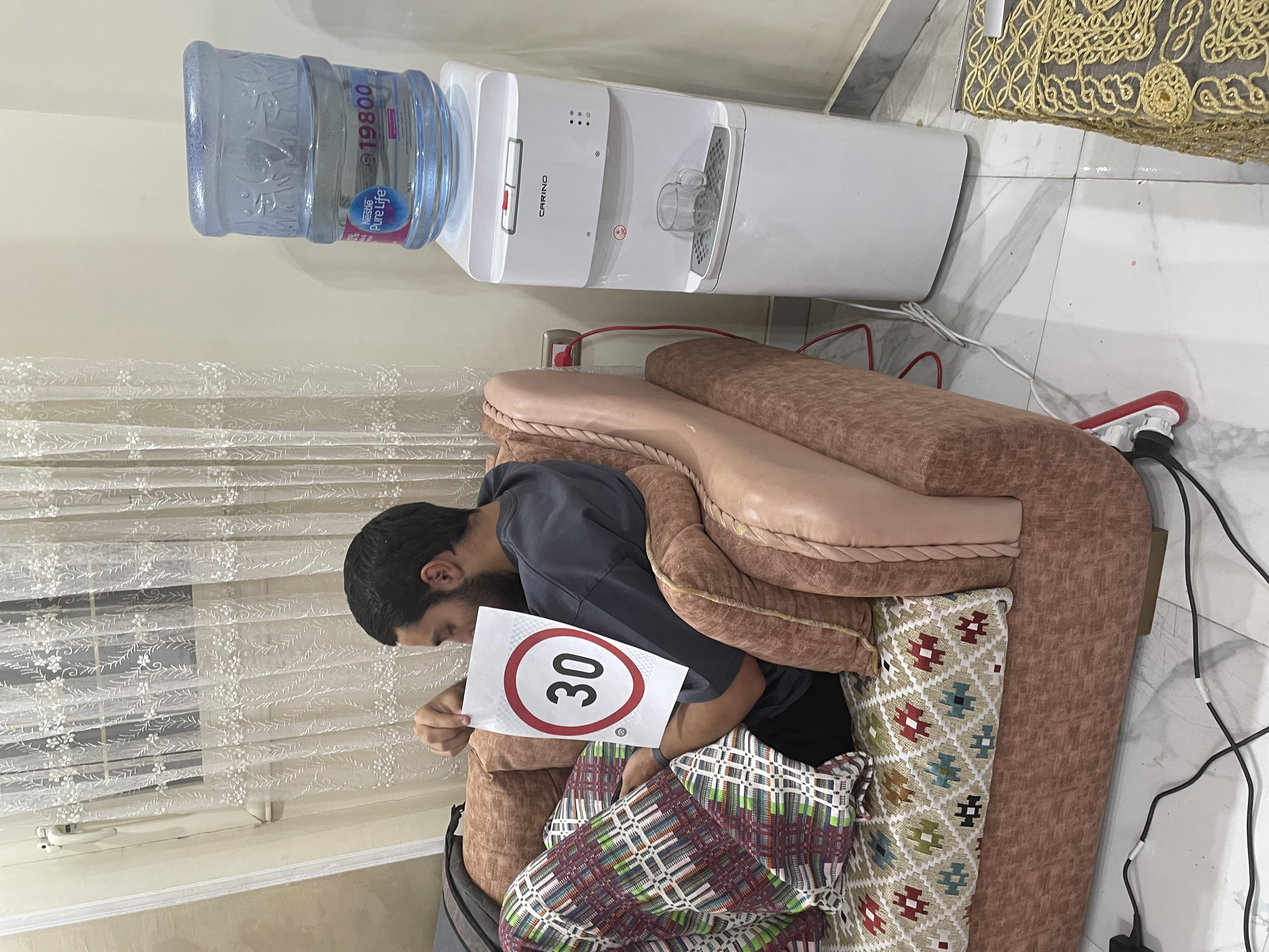30-speed: (290, 371, 435, 487)
